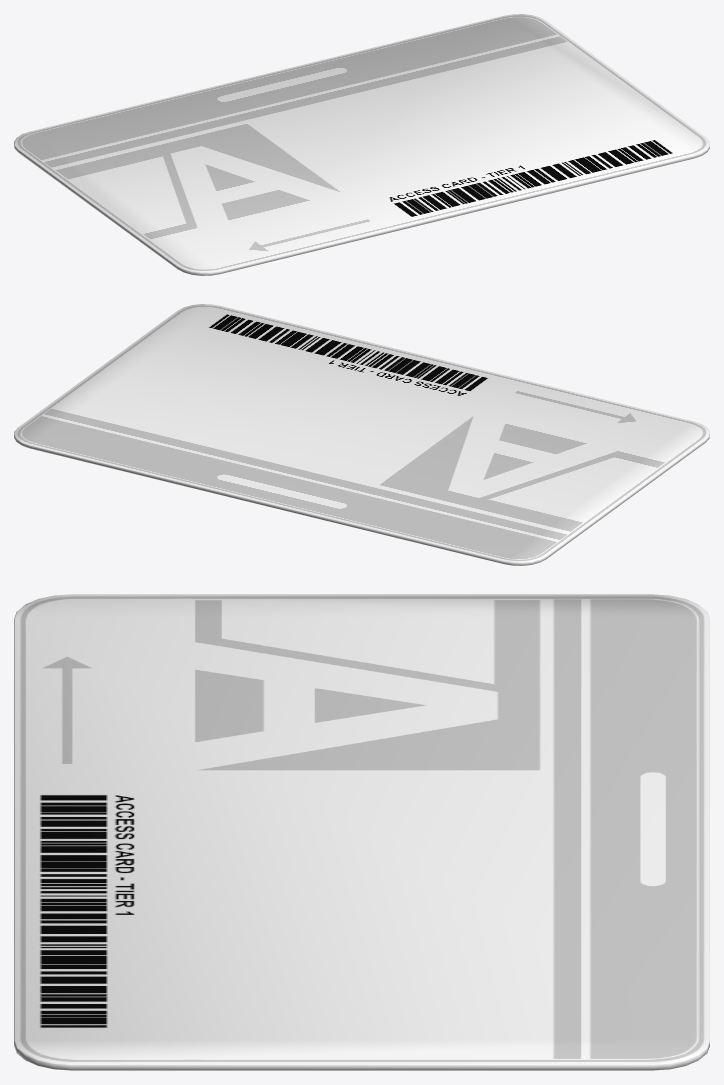
File: Card0.fbx
The picture shows the model from 3 angles, top to bottom: view 1: azimuth 30°, elevation 25°; view 2: azimuth 150°, elevation 25°; view 3: azimuth 270°, elevation 25°; orthographic projection. The views are drawn at different scales.
Visible parts, largest first — view 1: SM_AccessCard; view 2: SM_AccessCard; view 3: SM_AccessCard.
Boxes of the visible parts, x1,y1,x2,y2 form: SM_AccessCard: [14, 14, 709, 275]; SM_AccessCard: [14, 304, 709, 565]; SM_AccessCard: [14, 594, 709, 1070].
Size of the model in its own units: 9.28 by 0.0602 by 5.8.
